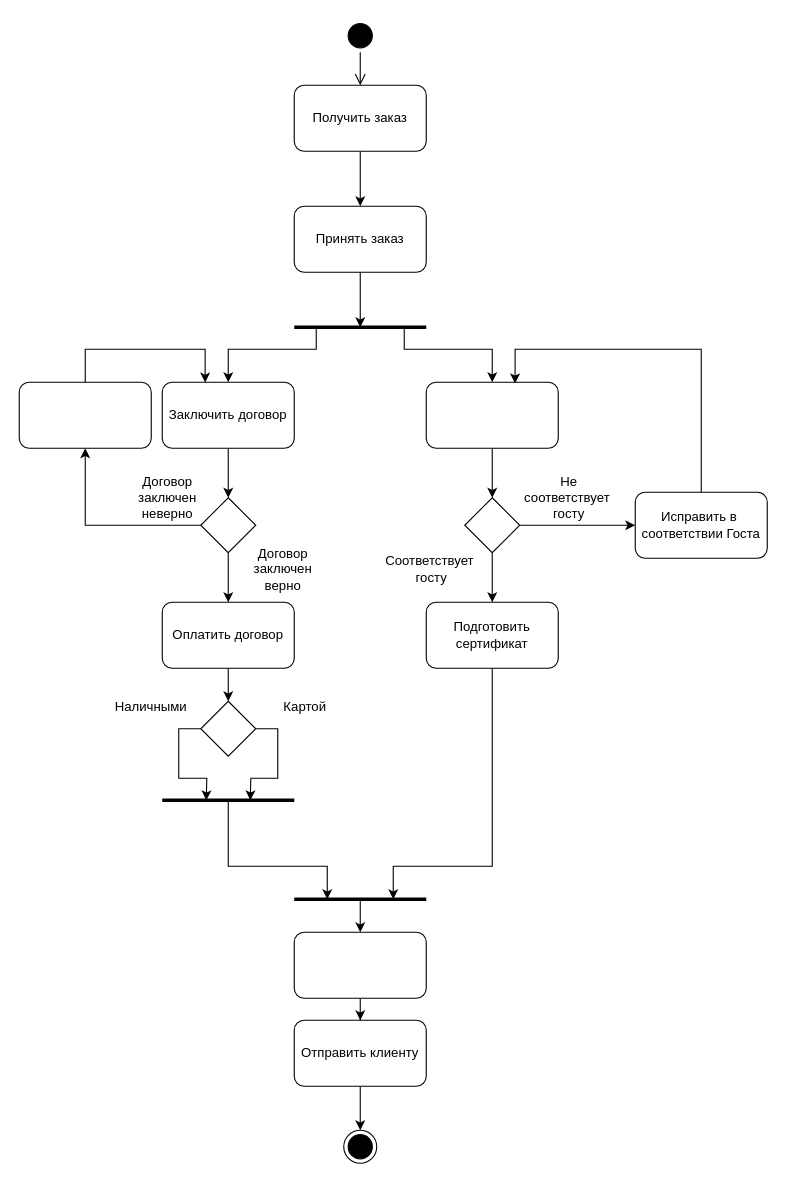
Image size: 787x1183. Some labels were removed from this diagram. The centre of each missing label's shape, as x and y in pixels:
"Пересмотреть договор" goes at (84,414).
"Подготовить сертификат к отправке" goes at (359,964).
"Проверить проект" goes at (491,414).
